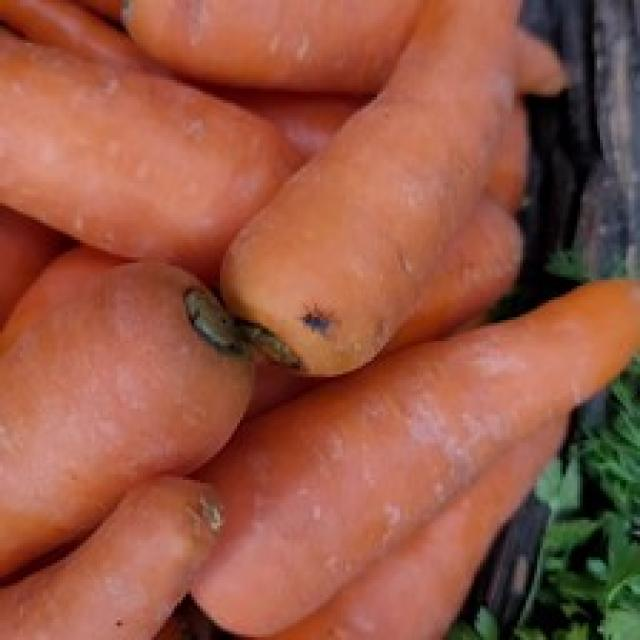Fresh_Carrot: (193, 281, 640, 640), (219, 0, 523, 389), (0, 263, 266, 605)
